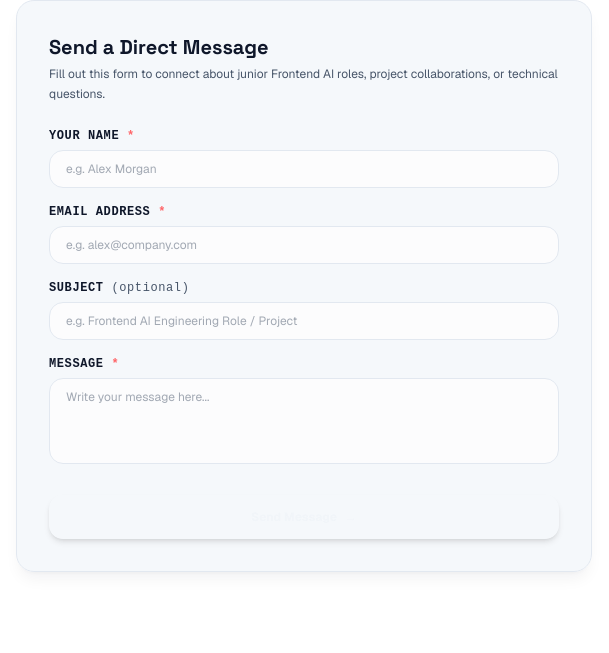
Test case: ContactForm Dynamic Component › shows client-side validation errors when submitting empty form
The width and height of the screenshot is (609, 653).
Click the button "Send Message →" at x=304, y=517, box [49,495,559,539]
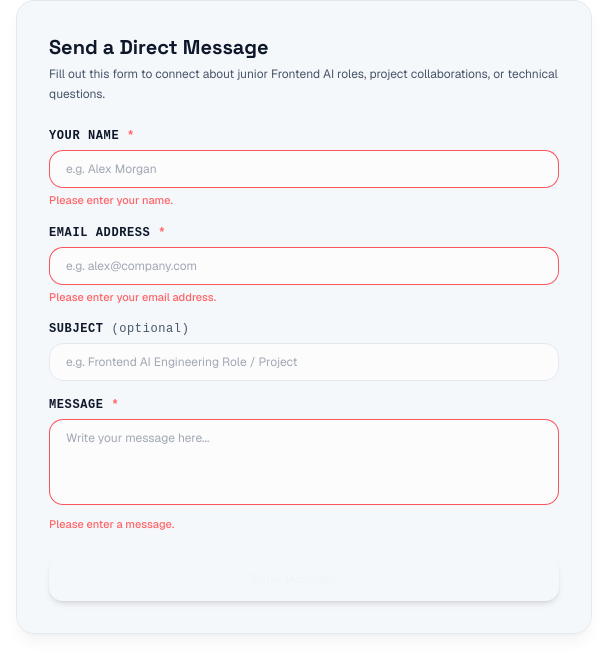
Expected: the text "Please enter your name." is shown, [49,193,173,207]
Expected: the text "Please enter your email address." is shown, [49,290,216,304]
Expected: the text "Please enter a message." is shown, [49,517,174,531]
